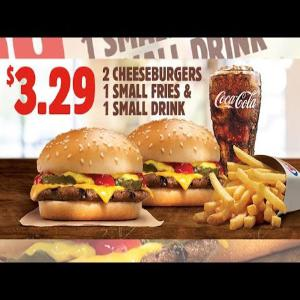cheeseburger: (27, 118, 145, 226), (133, 111, 220, 207)
fries: (200, 144, 288, 232)
